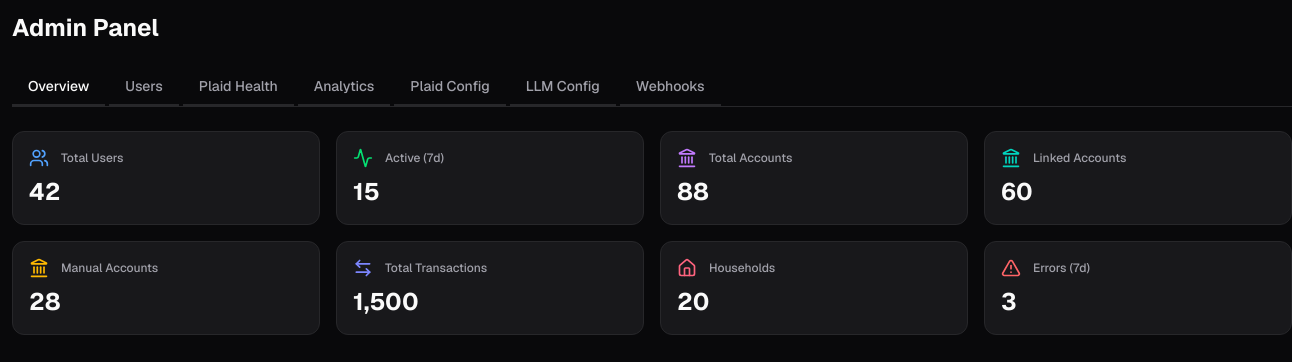
Test case: AdminPage › switches to users tab and shows user list
Click the tab "Users": (144, 87) [109,68,179,106]
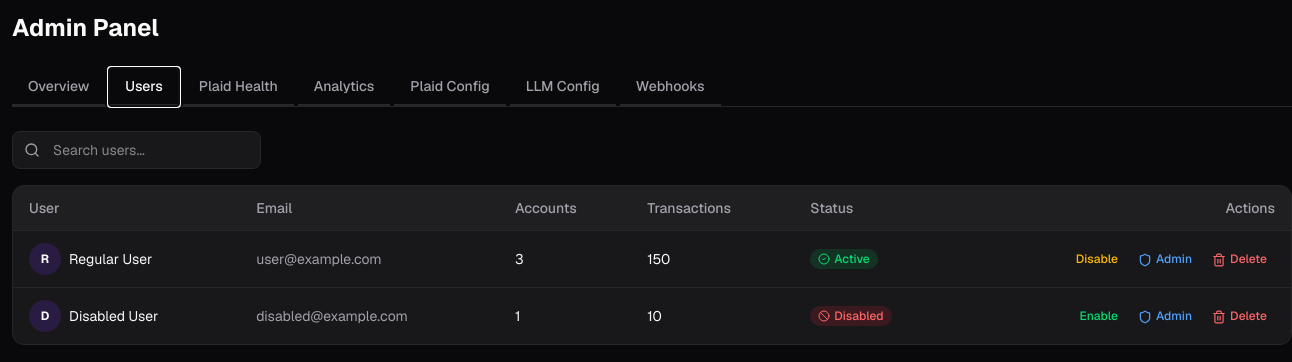
Expected: the text "user@example.com" is shown, [240,230,499,288]
Expected: the text "disabled@example.com" is shown, [240,288,499,344]
